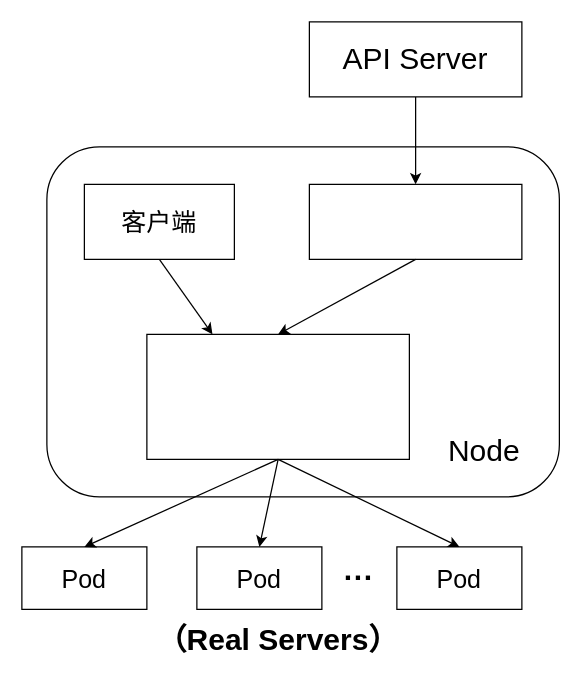
Image size: 581x681. Some labels were removed from this diagram. Here are the shapes that lost their labels. From the top down, the box of each, then its label:
(308, 183, 522, 259): kube-proxy
(146, 333, 409, 459): ClusterIP (Virtual Server)
